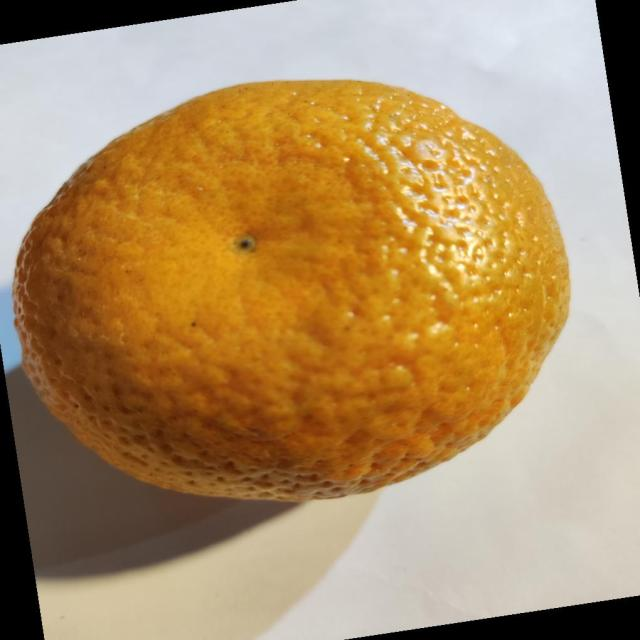fresh orange: (11, 77, 572, 503)
